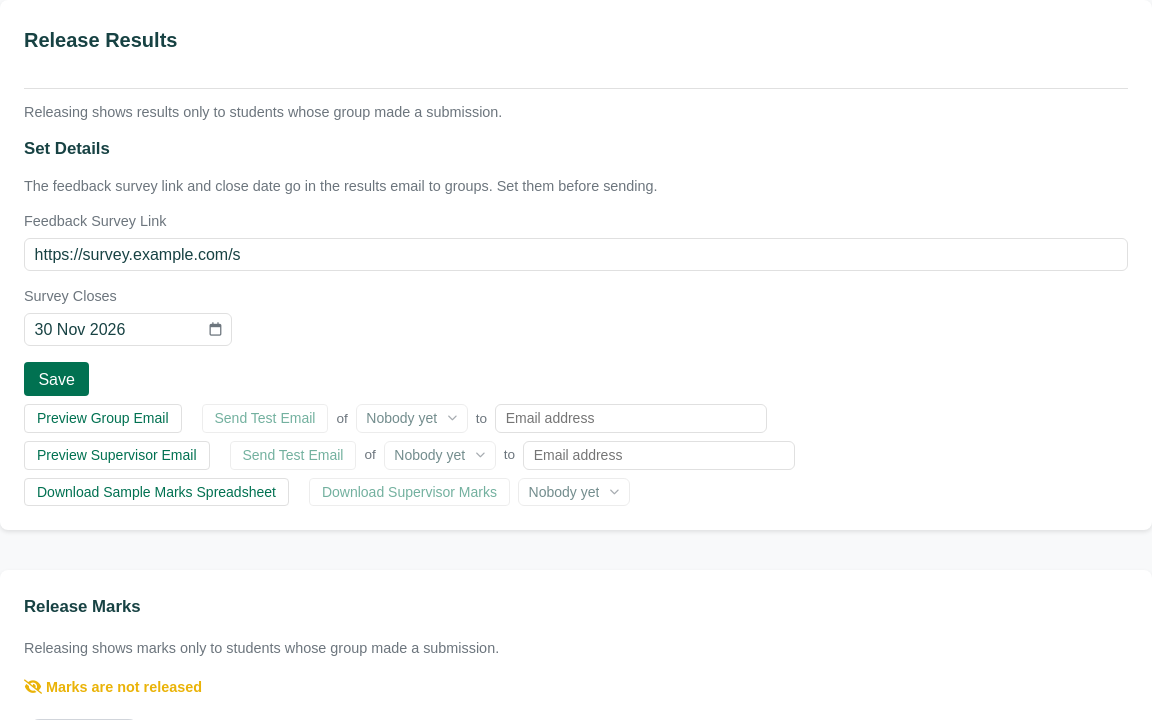
Test: sample spreadsheet › says why a download failed
Click the button "Download Sample Marks Spreadsheet".
click(156, 492)  # box [24,478,289,506]
(page scrolled)
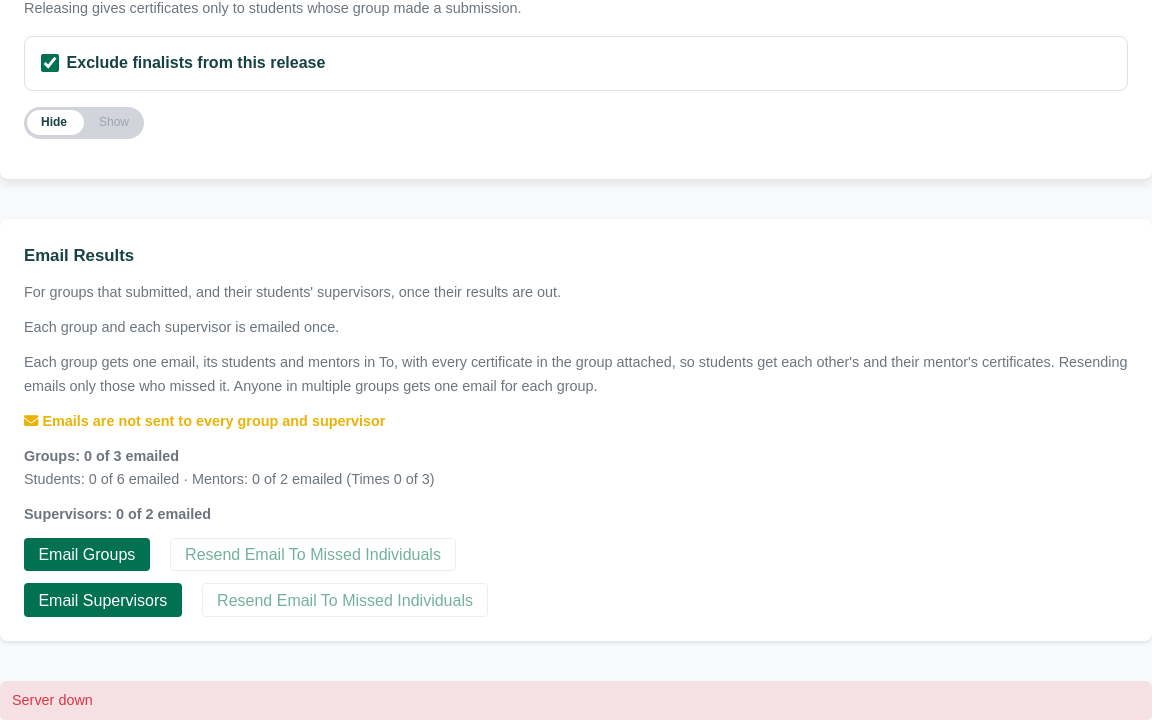
expect the text with class "release-results__banner--error" reads "Server down": met, box [12,692,93,708]
